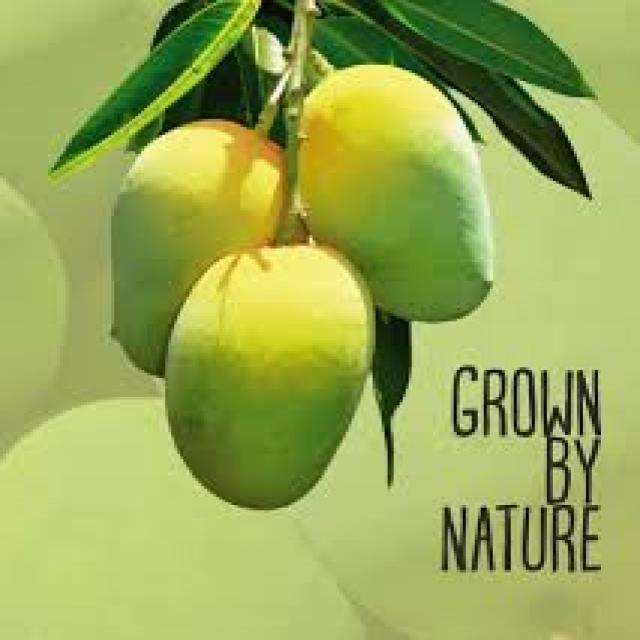Mango: (162, 240, 376, 508), (294, 62, 493, 321), (108, 116, 289, 375)
